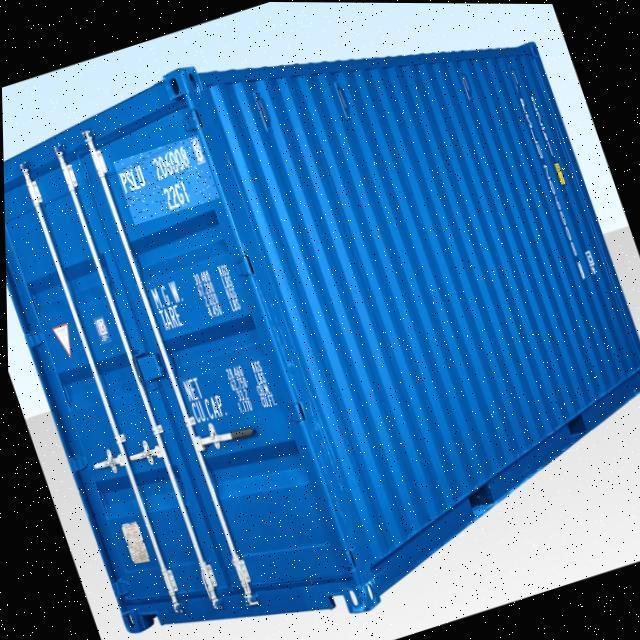container_number_h: (112, 134, 219, 225)
